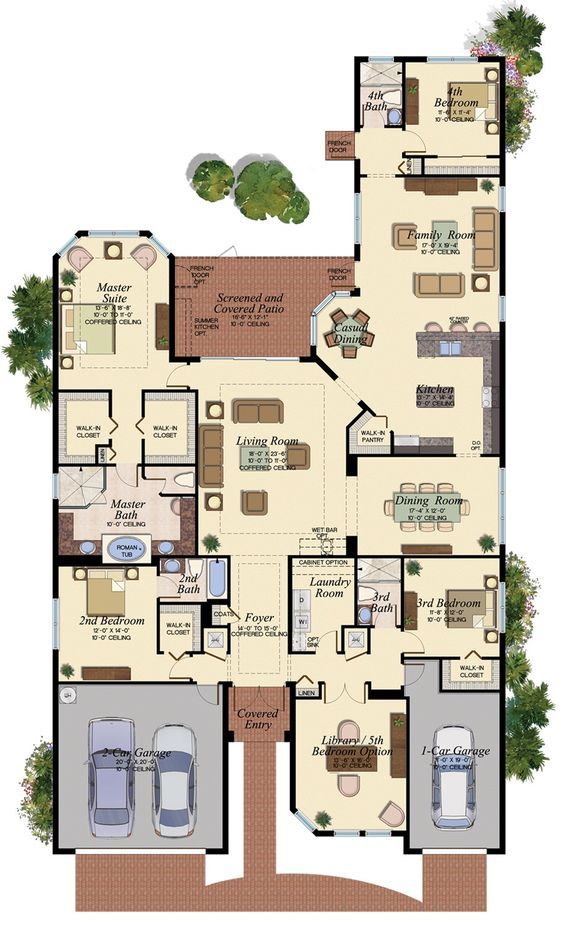room: (356, 174, 505, 458), (51, 553, 192, 685), (346, 454, 506, 559), (404, 689, 504, 854), (53, 464, 197, 556), (402, 56, 505, 177), (399, 554, 504, 661)
